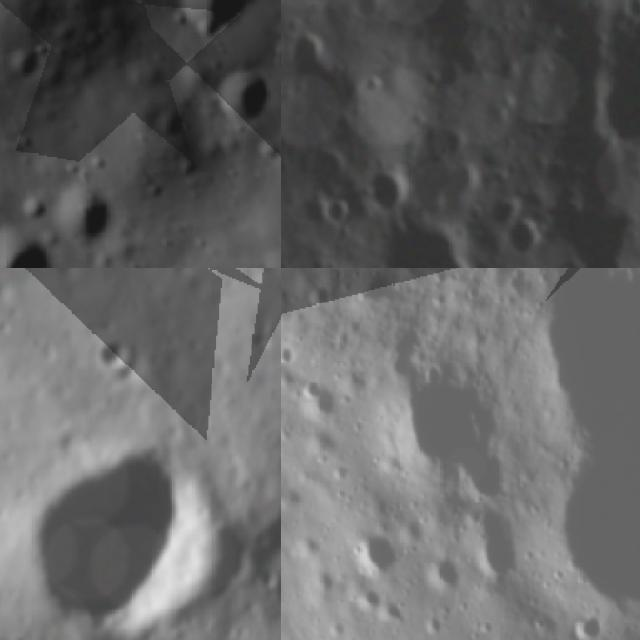crater: (17, 433, 234, 640), (281, 19, 372, 137), (590, 68, 640, 165), (55, 186, 118, 244), (173, 0, 242, 51), (366, 164, 422, 222), (214, 76, 264, 124), (88, 333, 140, 375), (480, 192, 522, 238), (0, 229, 48, 268), (252, 502, 281, 562), (508, 222, 548, 262), (319, 194, 356, 236), (423, 556, 454, 596), (346, 534, 382, 565), (153, 107, 185, 138), (566, 612, 601, 640), (305, 278, 329, 312), (384, 605, 409, 632), (258, 565, 281, 594), (344, 588, 375, 608), (620, 0, 640, 30), (281, 347, 295, 372), (320, 268, 343, 280), (9, 633, 38, 640)
